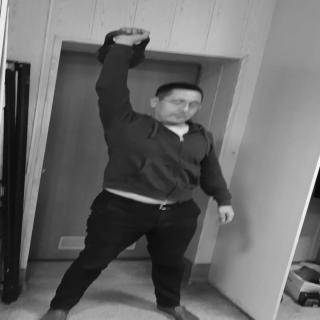girya: (99, 30, 152, 72)
